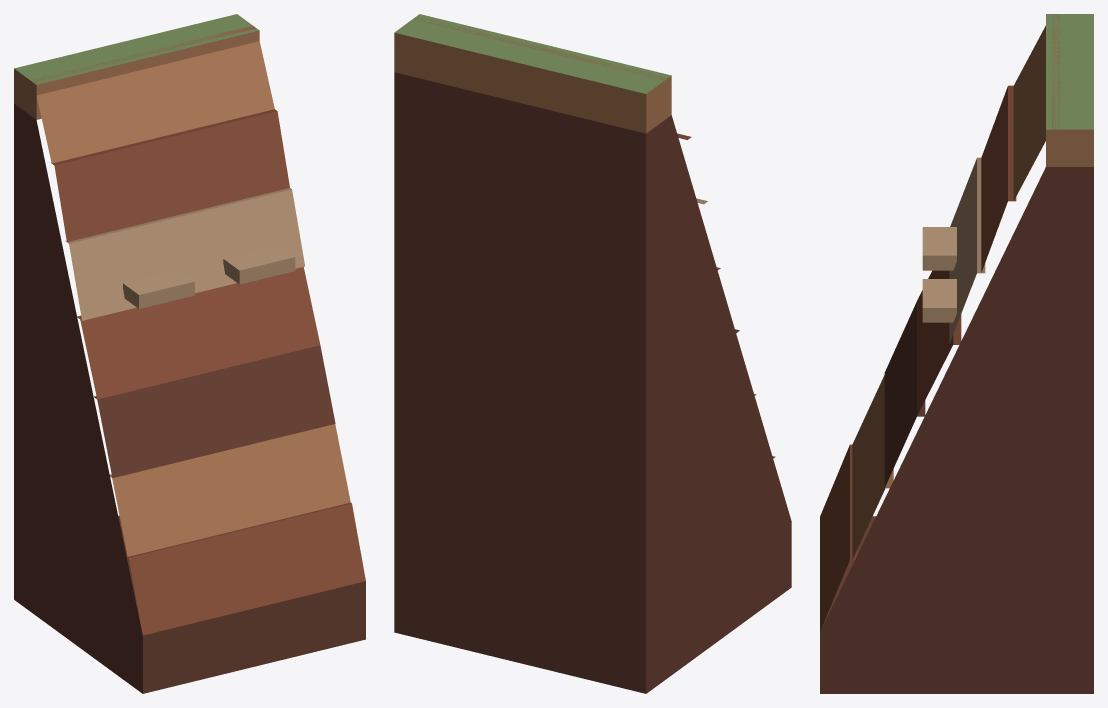
The model's file is t_gorge_edge.glb.
3 views of the same model, side by side, from view 1: azimuth 30°, elevation 25°; view 2: azimuth 150°, elevation 25°; view 3: azimuth 270°, elevation 25° (orthographic). The views are drawn at different scales.
Visible parts, largest first — view 1: t_gorge_edge; view 2: t_gorge_edge; view 3: t_gorge_edge.
Boxes of the visible parts, x1,y1,x2,y2 form: t_gorge_edge: (14,14,365,693); t_gorge_edge: (394,14,791,693); t_gorge_edge: (820,14,1093,693).
Size of the model in its own units: 2 by 4.55 by 2.
